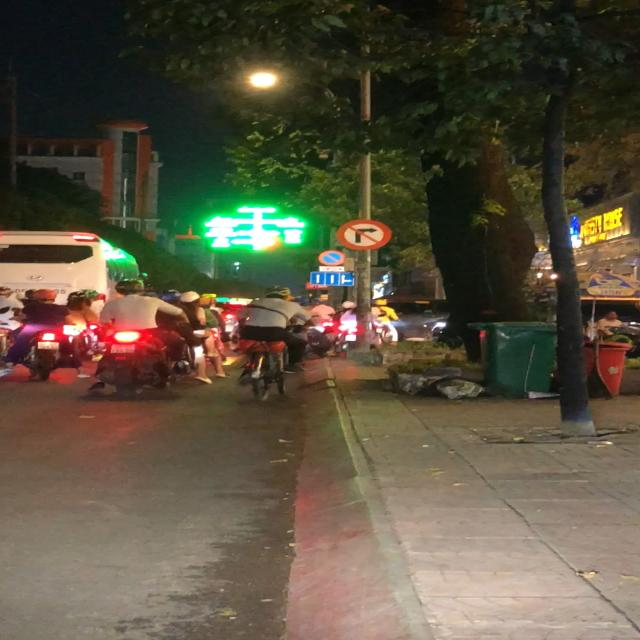Bien bao cam do xe: (316, 248, 347, 267)
Bien bao cam re phai: (334, 217, 393, 252)
